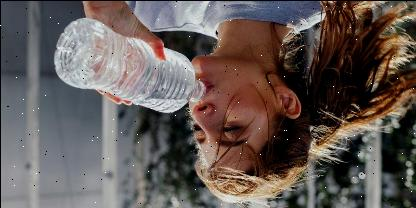Plastic Bottle: (52, 15, 206, 113)
